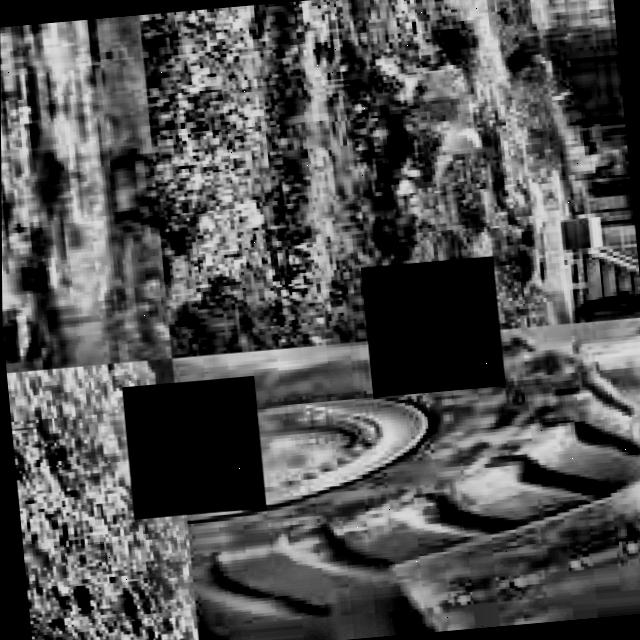buldozerpayloadergrader: (170, 316, 640, 640)
